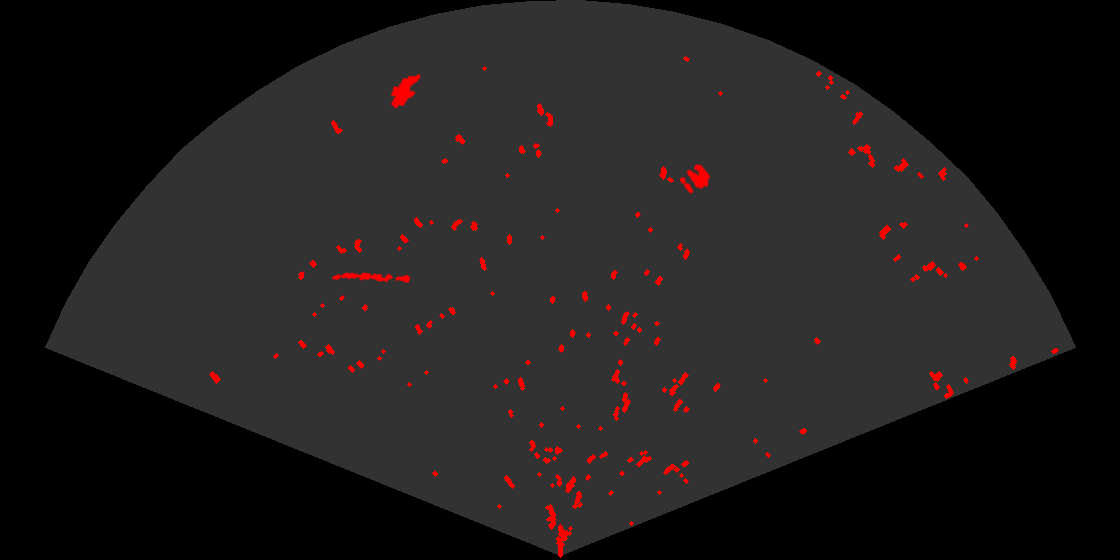AUV: (389, 72, 422, 110)
ball: (678, 162, 712, 195)
chain: (331, 271, 412, 285)
